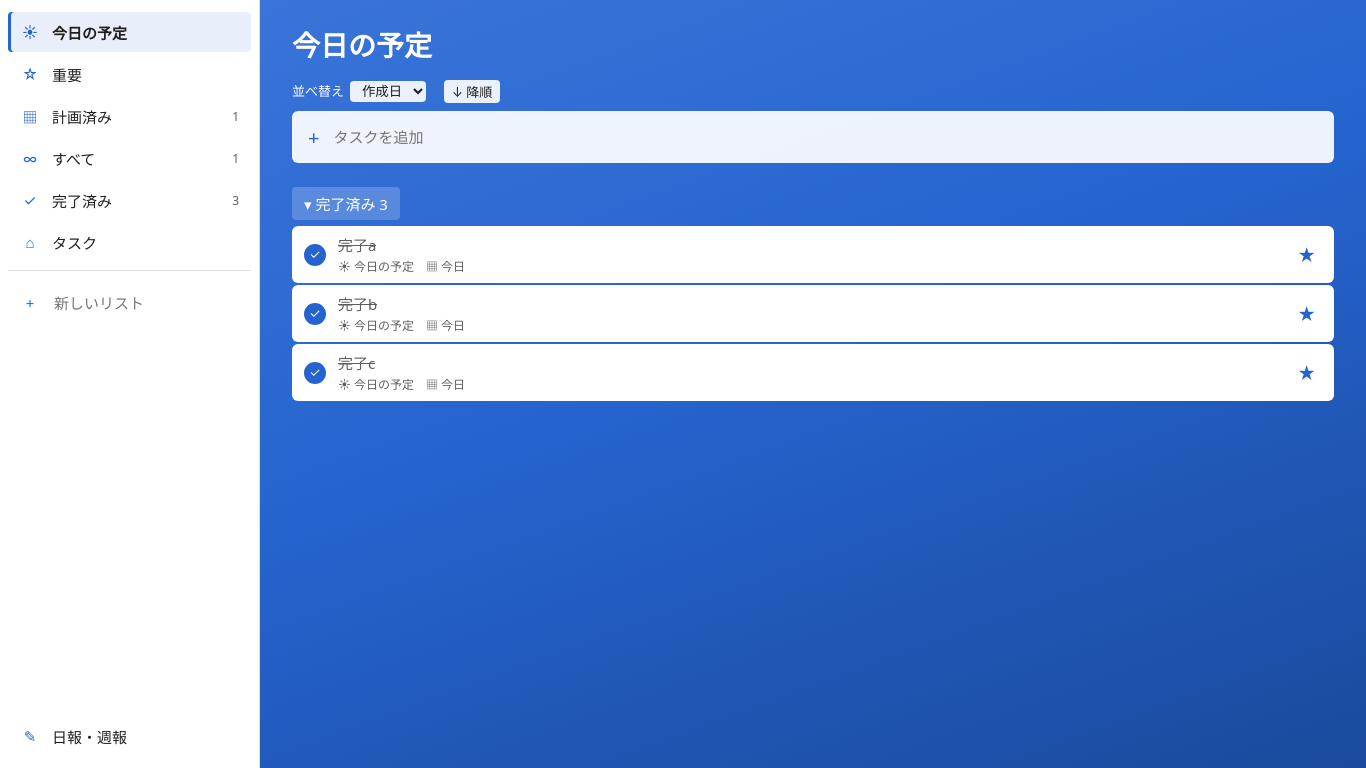
Scenario: App › 正常系: サイドバーの「完了済み」に完了したタスクだけを出し、完了日で絞り込める
This screenshot has width=1366, height=768.
Click the button "✓ 完了済み 3" at coordinates (130, 200), box [8, 180, 251, 220]
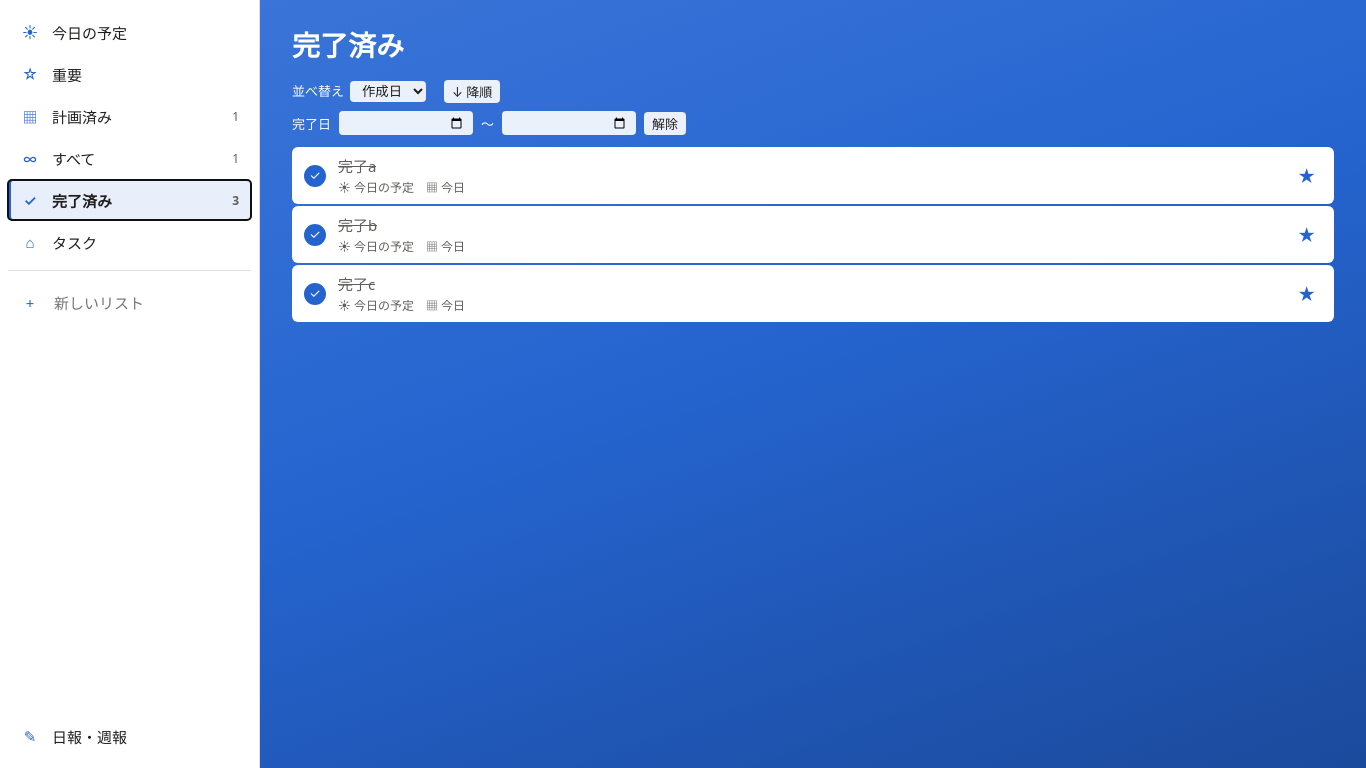
Check: the number of list items is 3, box [292, 147, 1334, 204]; [292, 206, 1334, 263]; [292, 265, 1334, 322]
Check: the heading "完了済み" is shown, box [292, 24, 404, 64]
Check: the field labelled "タスクを追加" is gone
Type "2026-02-01" into the date field named "完了日の開始" at coordinates (406, 123), box [339, 111, 473, 135]
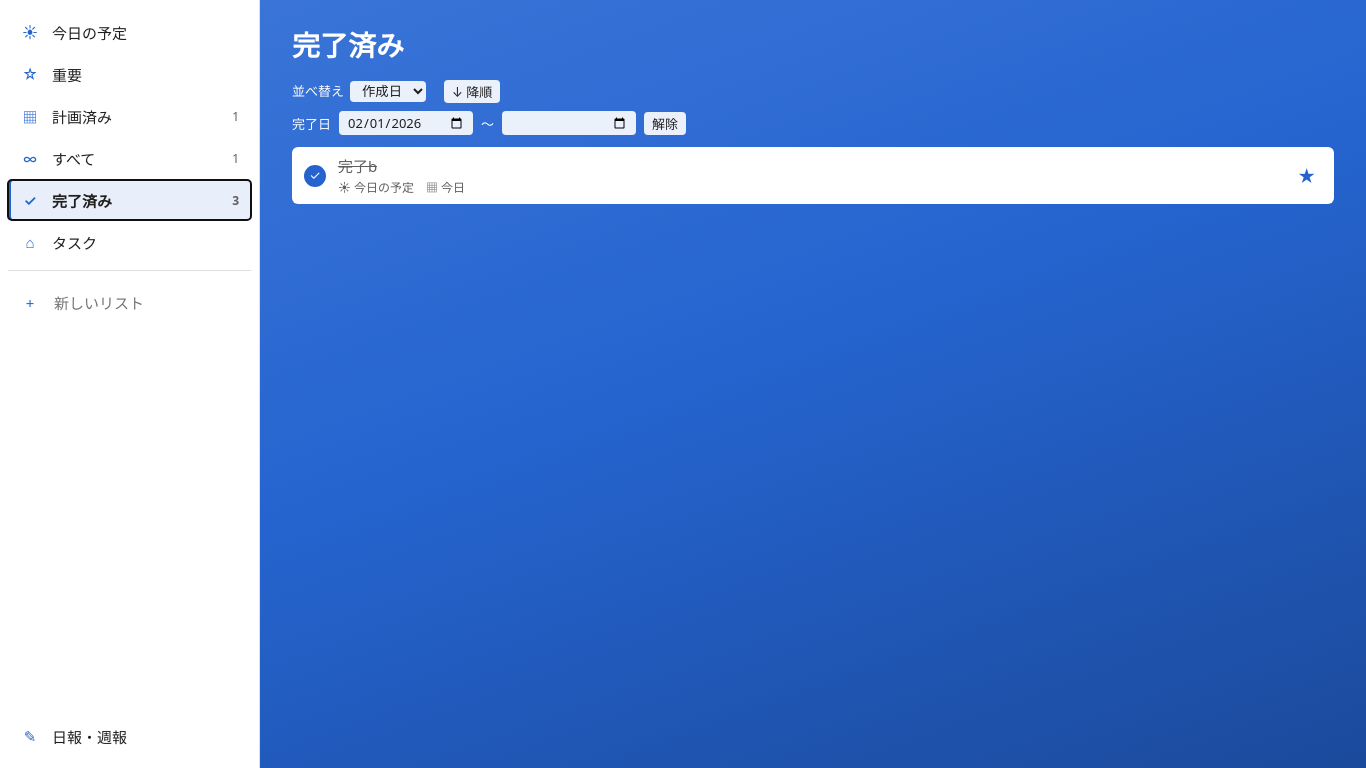
Type "2026-01-01" into the date field named "完了日の開始" at coordinates (406, 123), box [339, 111, 473, 135]
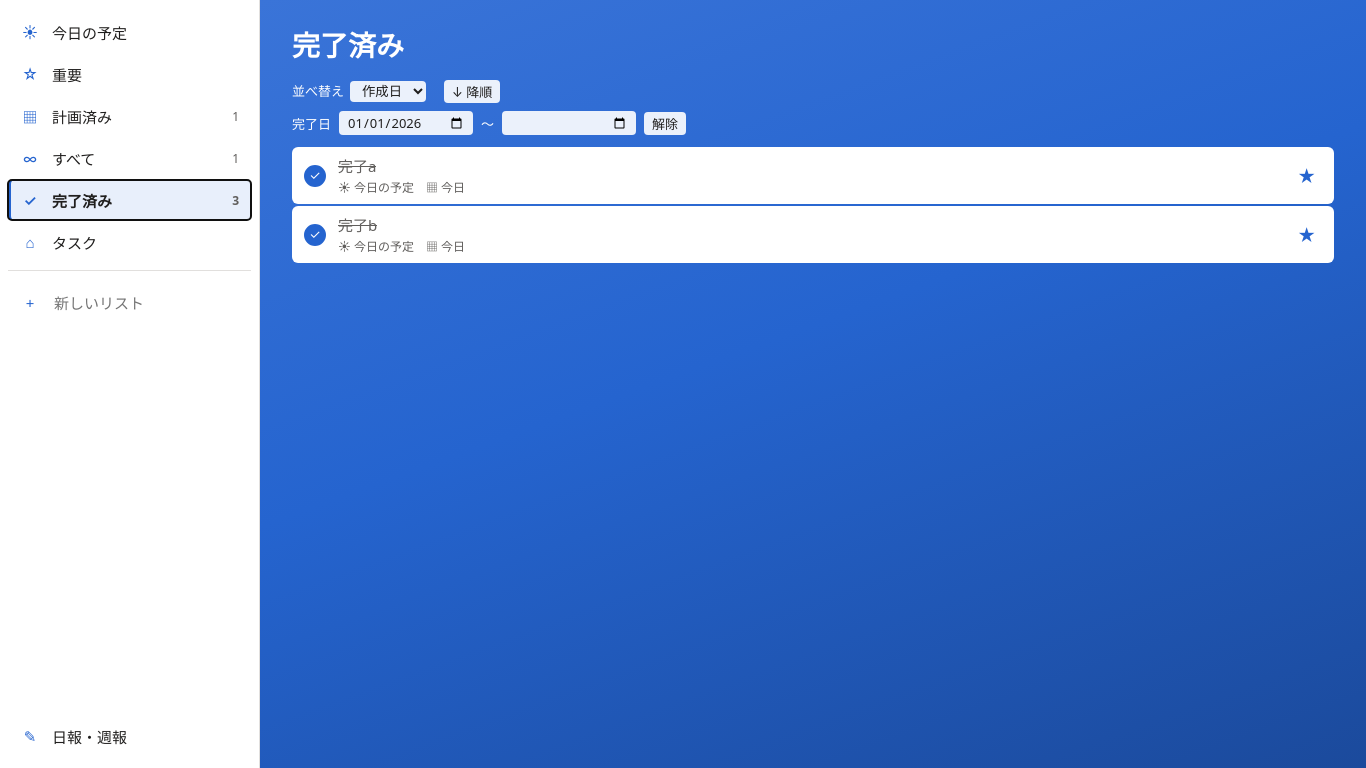
Type "2026-01-31" into the date field named "完了日の終了" at coordinates (569, 123), box [502, 111, 636, 135]
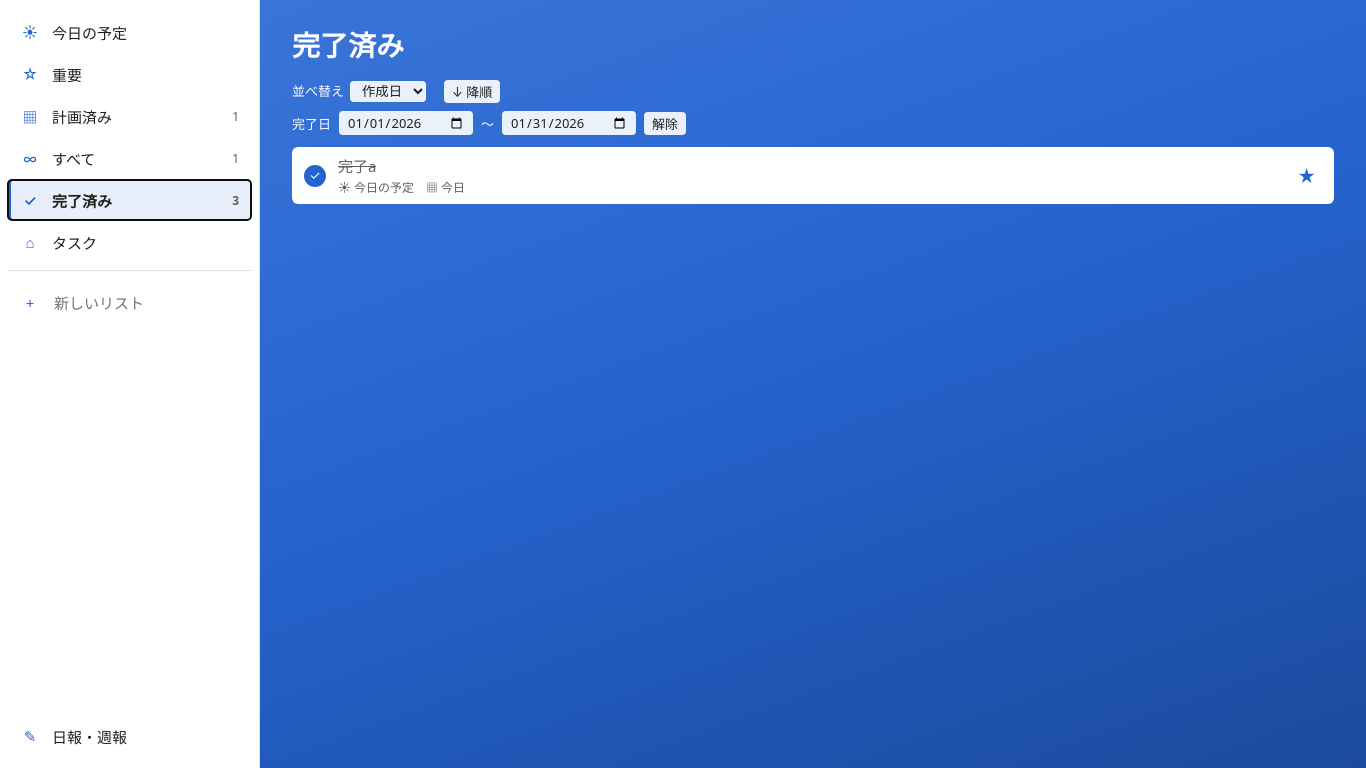
Type "2000-01-01" into the date field named "完了日の終了" at coordinates (569, 123), box [502, 111, 636, 135]
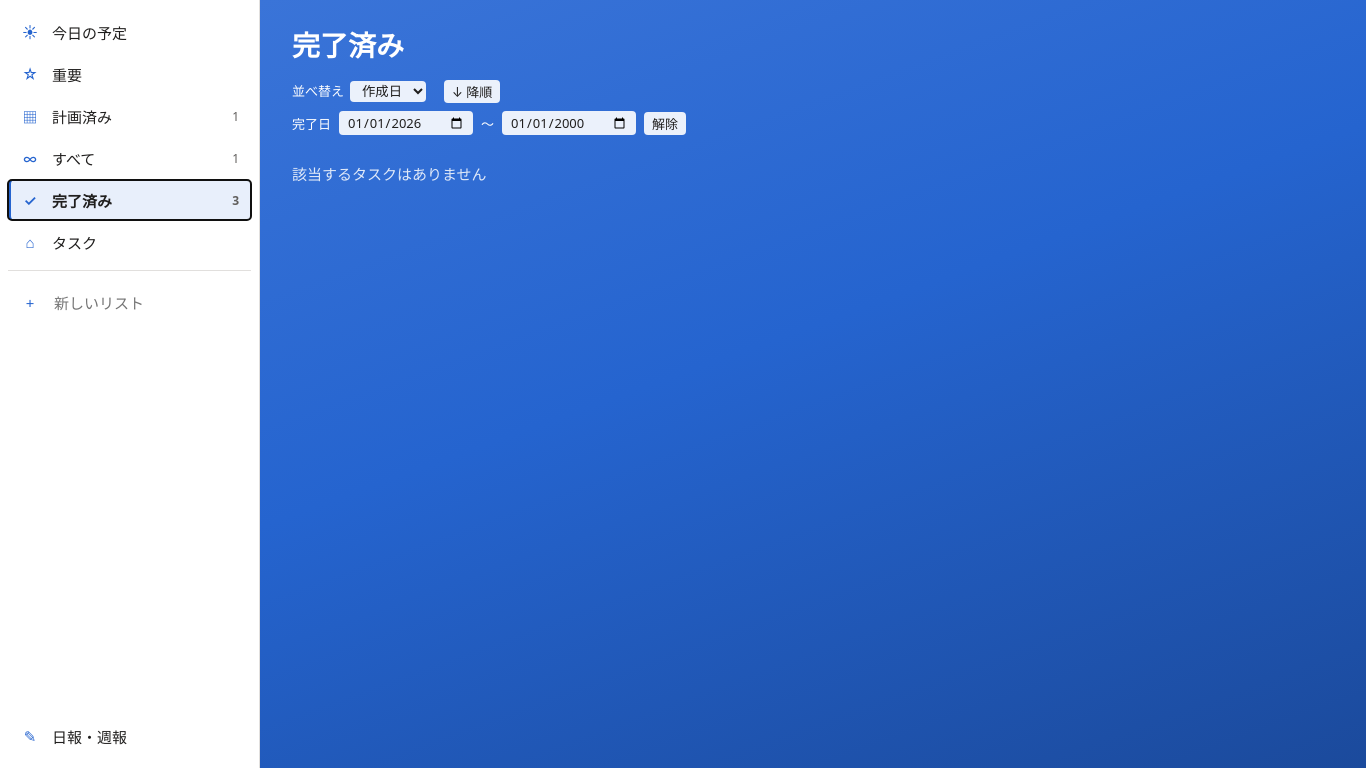
Check: the text "該当するタスクはありません" is shown, box [292, 164, 487, 184]
Click the button "解除" at coordinates (665, 123), box [644, 112, 686, 134]
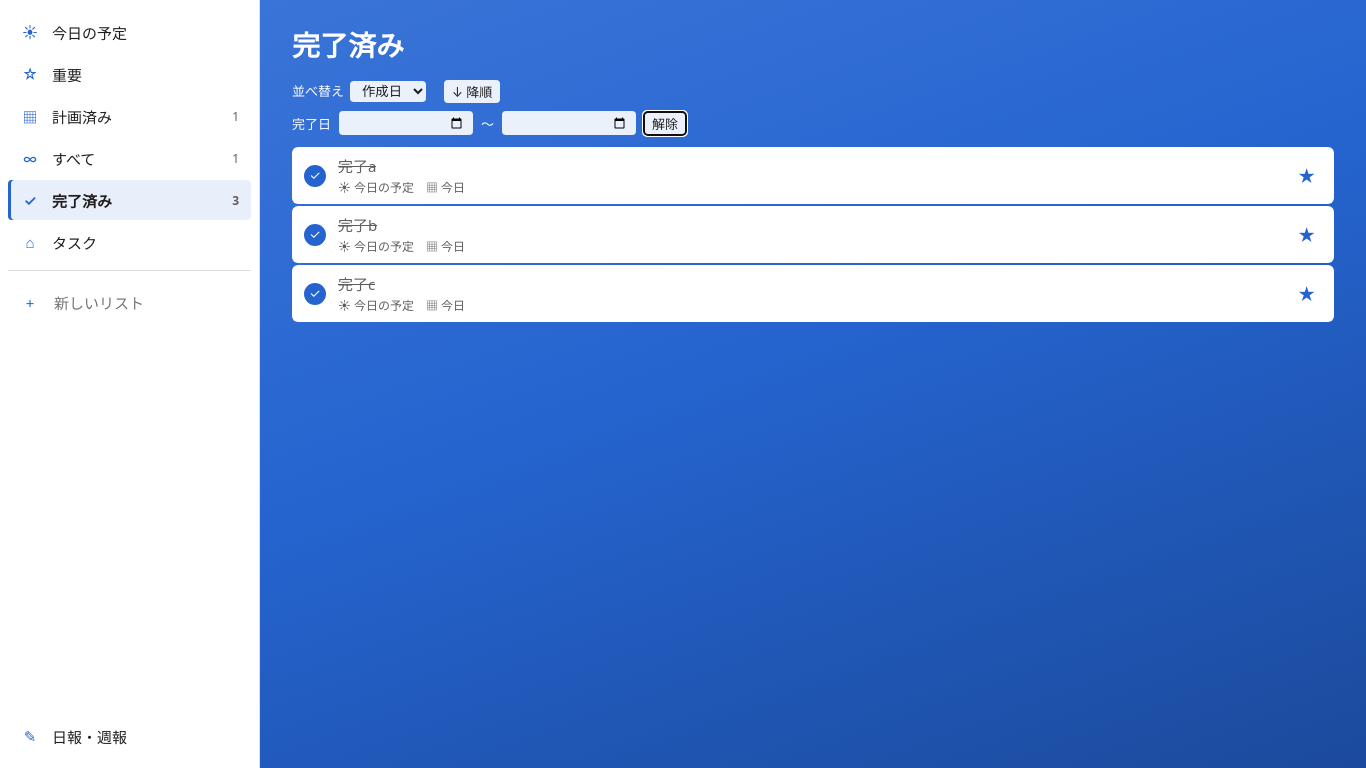
Check: the number of list items is 3, box [292, 147, 1334, 204]; [292, 206, 1334, 263]; [292, 265, 1334, 322]
